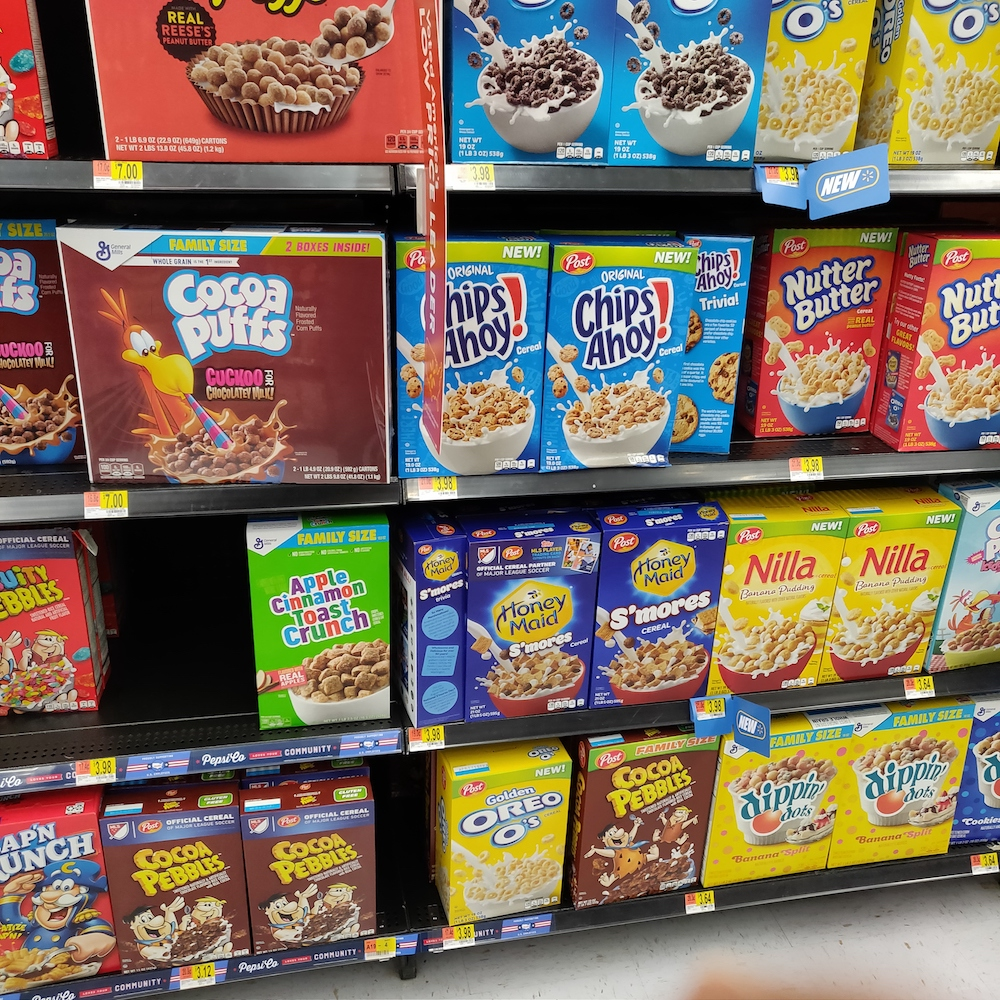Chips Ahoys-565717529: (403, 247, 543, 478), (551, 241, 679, 453)
Cocoa Pebbles-555517893: (573, 727, 722, 901), (102, 802, 260, 957), (249, 791, 384, 944)
Dippin Dots Banana-568929376: (844, 718, 968, 864), (722, 734, 834, 873)
Honey Maid Graham -563424385: (589, 519, 723, 707), (469, 546, 585, 713)
Nilla -568301014: (726, 512, 838, 695), (847, 506, 949, 685)
Nutter Butter-565717511: (901, 238, 999, 458), (774, 241, 884, 430)
Oreo Golden-568301011: (432, 749, 572, 913)
